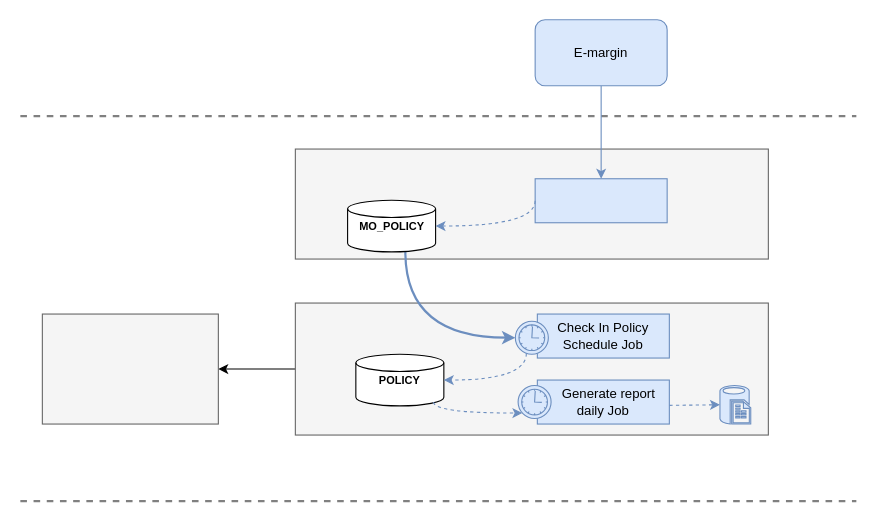
Some shapes in this 877 by 521 pixel diagram are drawn without their labels. Each missing label, with the box of its shape:
FN3 Web: (41, 313, 218, 424)
FNBridge ( TransferInsuranceBookingEndPoint ): (534, 178, 667, 223)
